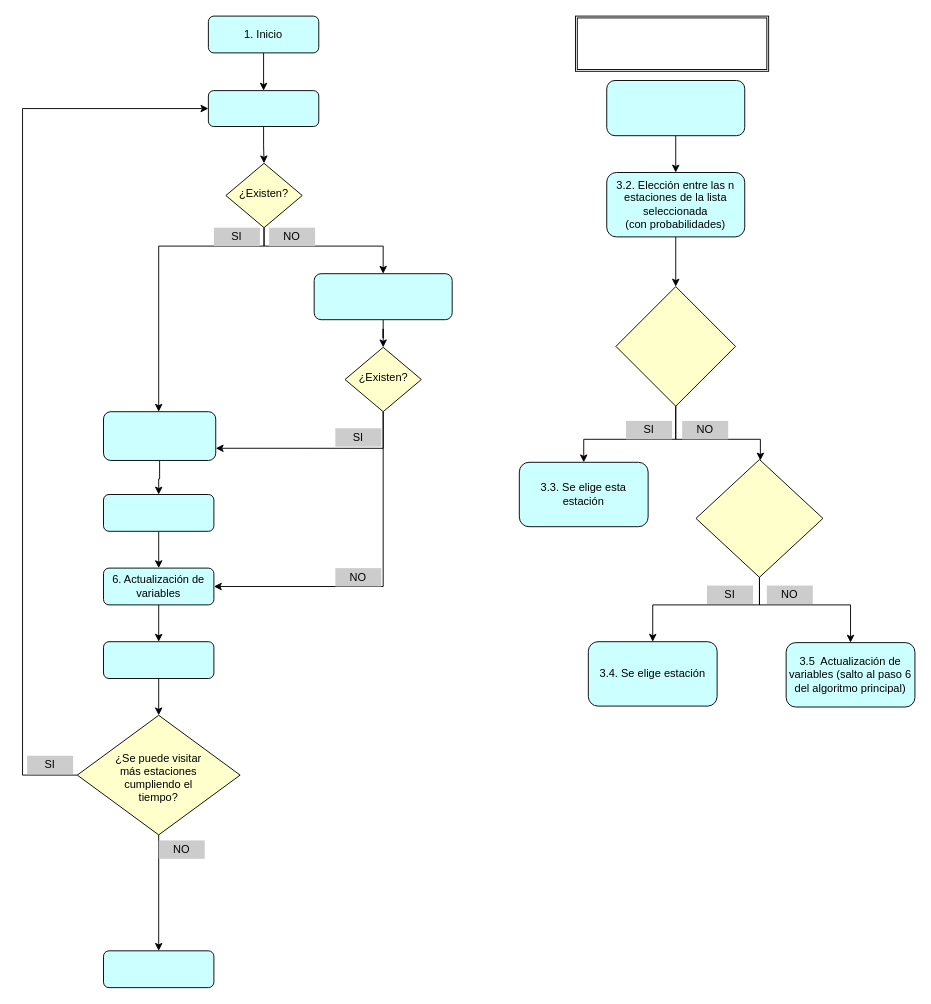
Image size: 931x1004. Some labels were removed from this diagram. Here are the shapes that lost their labels. From the top down, the box of each, then its label:
(575, 15, 769, 71): Se explica con más detalle el proceso número 3 del algoritmo principal.
(207, 90, 319, 126): 2. Identificación de estaciones críticas
(606, 80, 745, 136): 3.1. Elección aleatoria entre lista de estaciones saturadas/desabastecidas
(313, 273, 452, 320): 4. Identificación de estaciones en semi-riesgo
(615, 286, 736, 406): ¿El camión cumple la restricción de capacidad?
(103, 411, 216, 460): 3. Elección con probabilidades de estación a visitar
(103, 494, 214, 531): 5.Visita estación
(695, 459, 823, 577): ¿Existen estaciones en el grupo contrario?
(103, 641, 214, 678): 7. Verificación jornada laboral
(103, 950, 214, 988): 8. Fin
